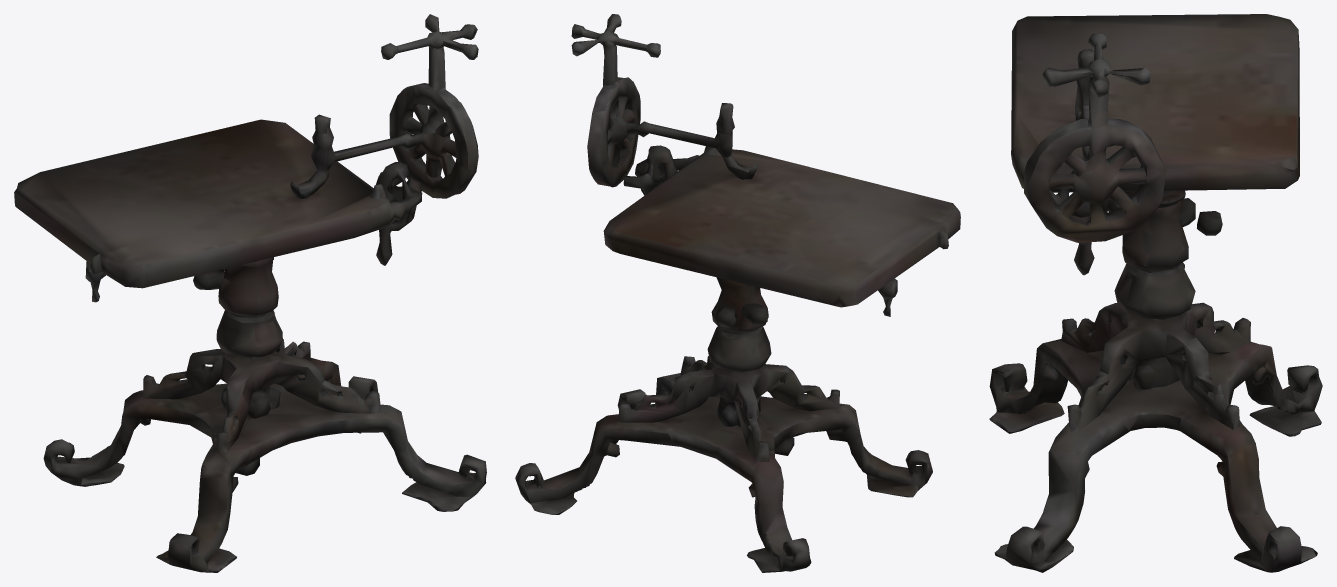
Rendered from ornate-iron-operating-table-v004.glb.
3 views of the same model, side by side, from view 1: azimuth 30°, elevation 25°; view 2: azimuth 150°, elevation 25°; view 3: azimuth 270°, elevation 25° (orthographic). The views are drawn at different scales.
Parts seen in each view (by area): view 1: ornate-iron-operating-table; view 2: ornate-iron-operating-table; view 3: ornate-iron-operating-table.
Boxes of the visible parts, left/top/right/bottom form: ornate-iron-operating-table: left=14, top=14, right=486, bottom=572; ornate-iron-operating-table: left=515, top=14, right=960, bottom=572; ornate-iron-operating-table: left=989, top=14, right=1322, bottom=572.
Size of the model in its own units: 0.9135 by 0.9856 by 0.5793.
Materials: 1 (1 with a texture image).
